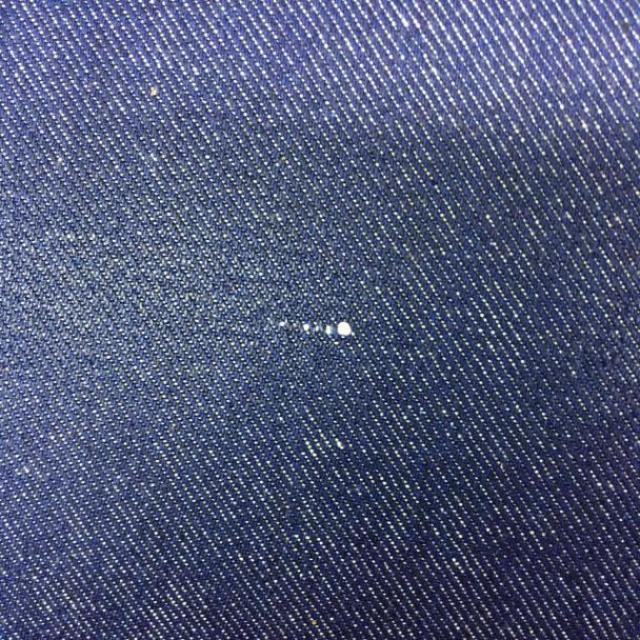Knot: (279, 321, 355, 338)
